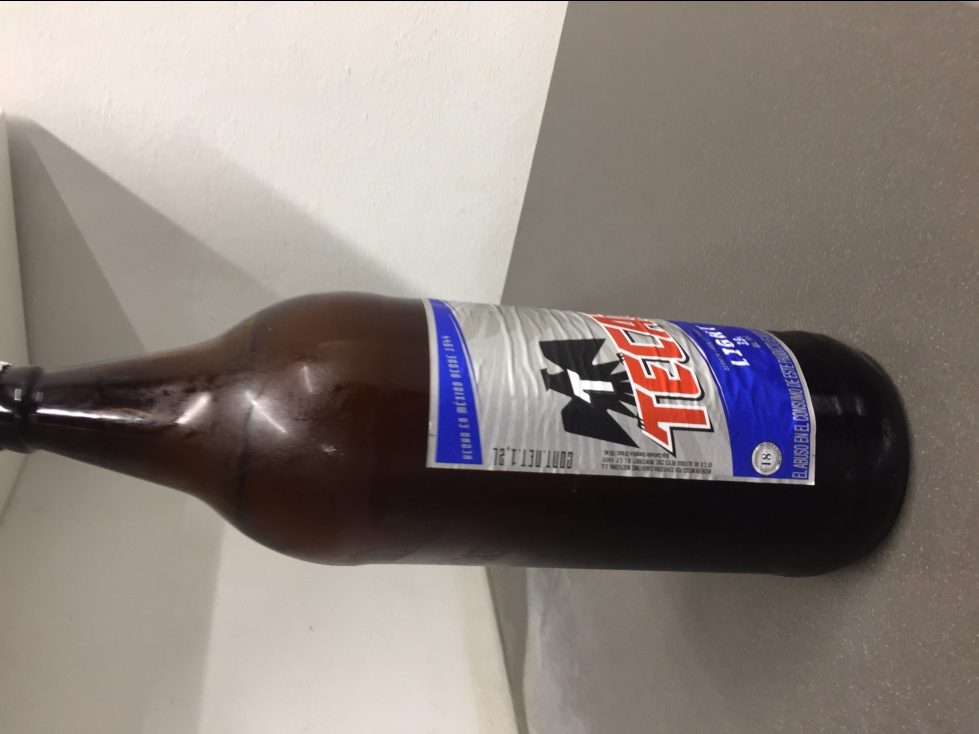tecateC: (9, 291, 921, 584)
